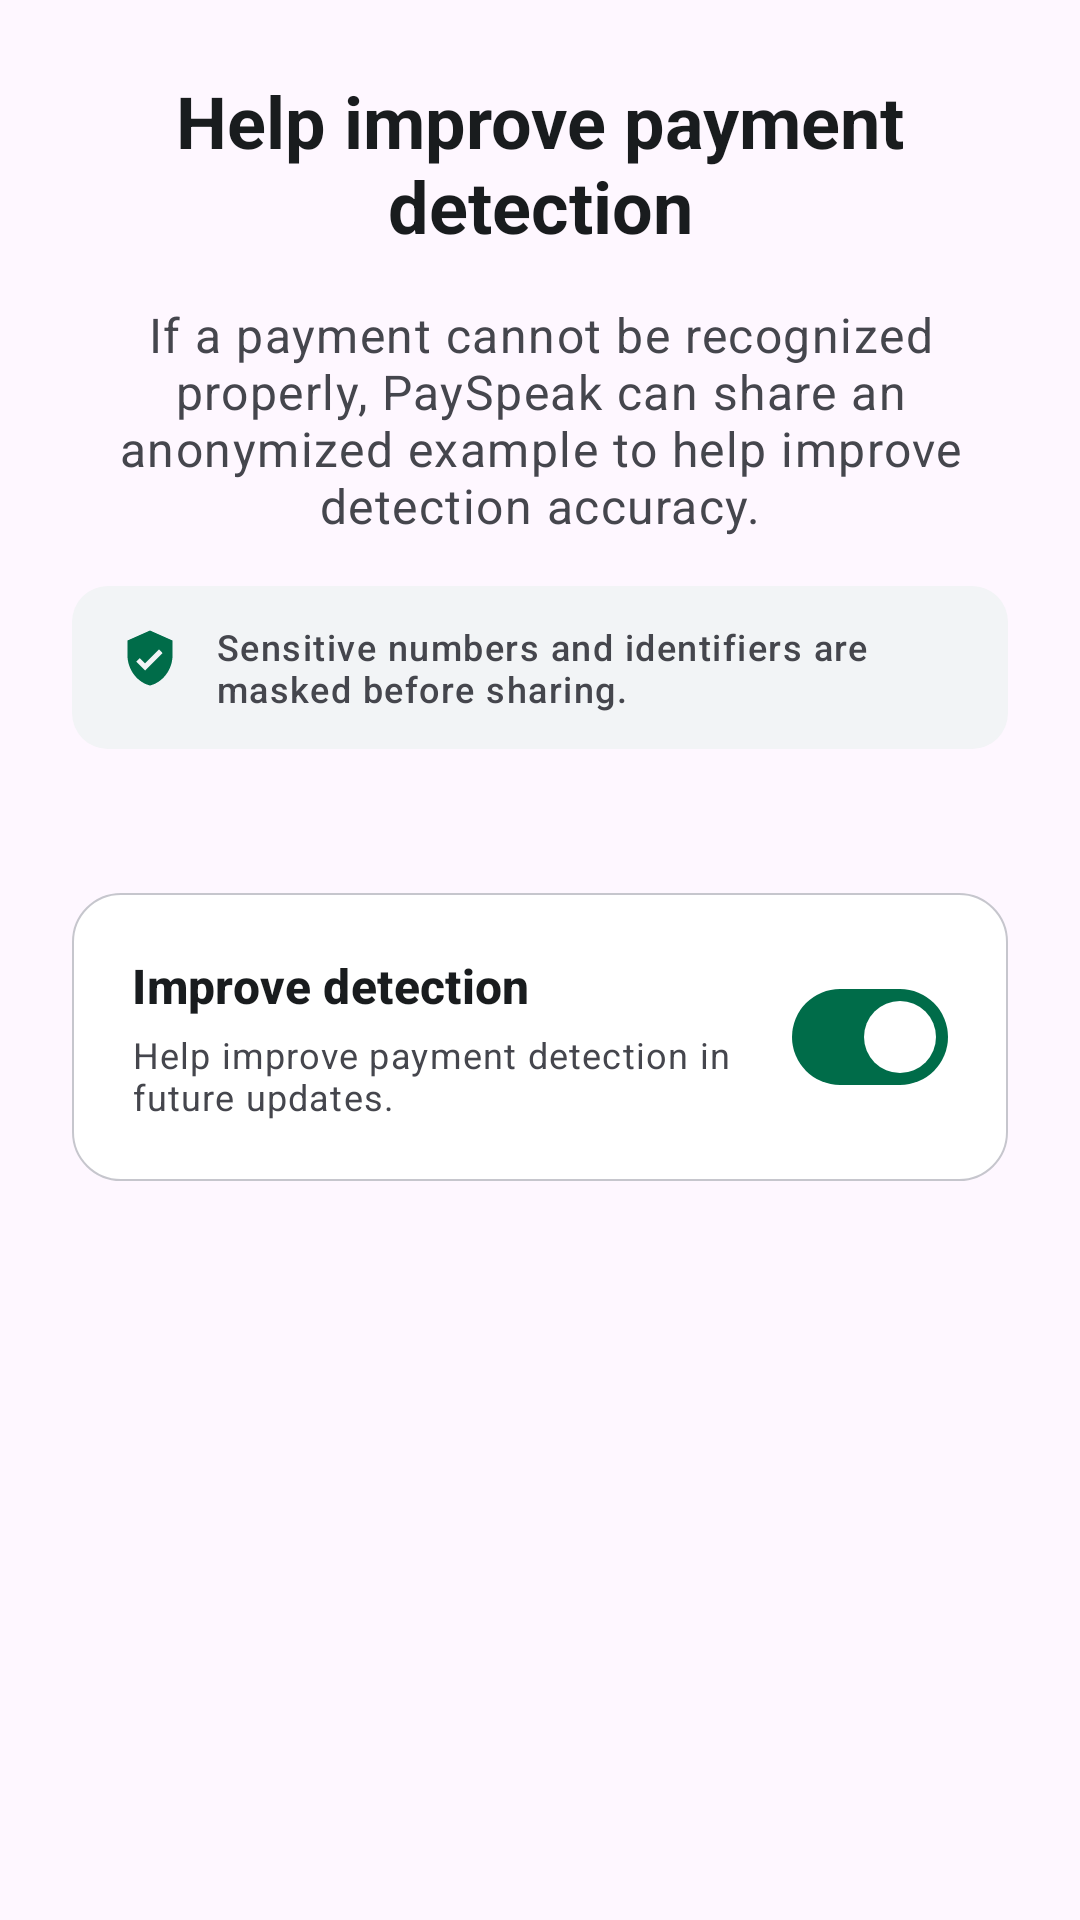

Screen size 1080×1920. Icon name, then its center in pixels as (x=x, y=y):
verified user: (x=150, y=658)
